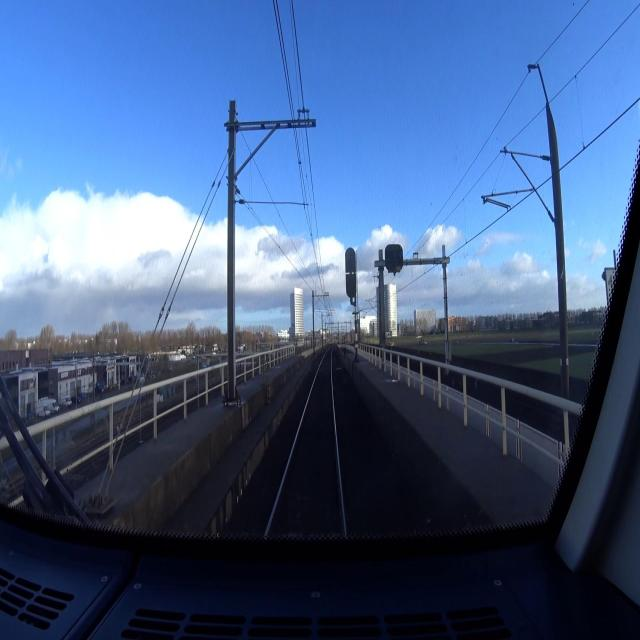rail-track: (268, 350, 343, 539)
